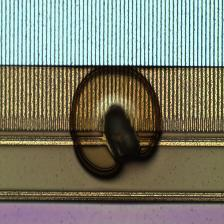PARTICLE: (69, 64, 165, 185)
